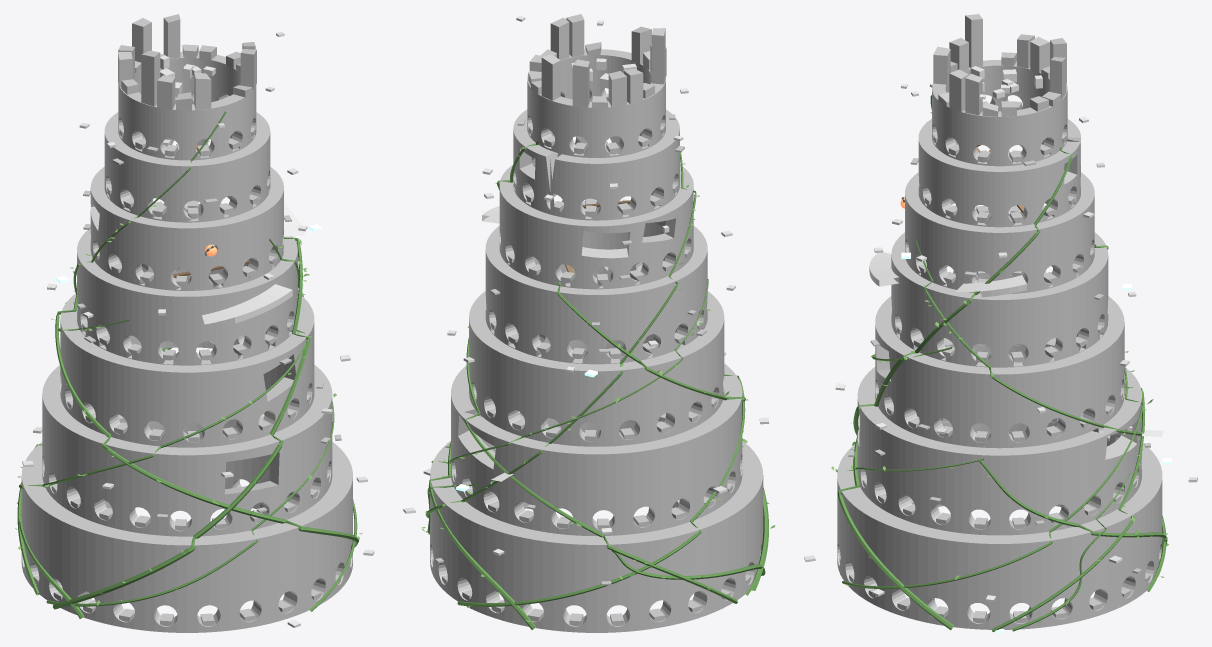
The model's file is Tower2.glb.
3 views of the same model, side by side, from view 1: azimuth 30°, elevation 25°; view 2: azimuth 150°, elevation 25°; view 3: azimuth 270°, elevation 25° (orthographic). The views are drawn at different scales.
Visible parts, largest first — view 1: Tier_01, Tier_02, Tier_03, Tier_04, Tier_05, Tier_06, Tier_07, UnfinishedTop, Vine_09, Vine_01, SpiralRamp, Vine_05 (+5 smaller); view 2: Tier_01, Tier_02, Tier_03, Tier_04, Tier_05, Tier_06, Tier_07, UnfinishedTop, Vine_02, Vine_06, Vine_07, Vine_03 (+4 smaller); view 3: Tier_01, Tier_02, Tier_03, Tier_04, Tier_05, Tier_06, Tier_07, UnfinishedTop, SpiralRamp, Vine_09, Vine_01, Vine_04 (+4 smaller).
Boxes of the visible parts, box(x1,y1,x2,y2) form: Tier_01: box(21, 423, 352, 632); Tier_02: box(42, 365, 332, 536); Tier_03: box(60, 278, 314, 447); Tier_04: box(77, 203, 297, 365); Tier_05: box(90, 166, 283, 290); Tier_06: box(104, 112, 270, 222); Tier_07: box(118, 52, 256, 160); UnfinishedTop: box(118, 14, 256, 110); Vine_09: box(53, 237, 309, 609); Vine_01: box(55, 296, 358, 546); SpiralRamp: box(202, 205, 305, 324); Vine_05: box(46, 401, 334, 606); Tier_01: box(430, 412, 763, 632); Tier_02: box(451, 346, 742, 536); Tier_03: box(469, 276, 724, 446); Tier_04: box(485, 201, 707, 364); Tier_05: box(499, 164, 693, 289); Tier_06: box(513, 109, 679, 220); Tier_07: box(527, 49, 665, 157); UnfinishedTop: box(528, 14, 666, 107); Vine_02: box(464, 338, 737, 603); Vine_06: box(457, 374, 745, 606); Vine_07: box(425, 152, 696, 518); Vine_03: box(428, 442, 535, 629); Tier_01: box(837, 423, 1162, 629); Tier_02: box(857, 350, 1141, 535); Tier_03: box(875, 296, 1124, 448); Tier_04: box(891, 232, 1108, 367); Tier_05: box(905, 172, 1094, 294); Tier_06: box(918, 104, 1080, 227); Tier_07: box(932, 60, 1067, 166); UnfinishedTop: box(933, 14, 1066, 116); SpiralRamp: box(869, 252, 1163, 437); Vine_09: box(852, 147, 1072, 445); Vine_01: box(838, 244, 1108, 629); Vine_04: box(842, 366, 1143, 588).
Size of the model in its own units: 26.94 by 44.61 by 29.07.
